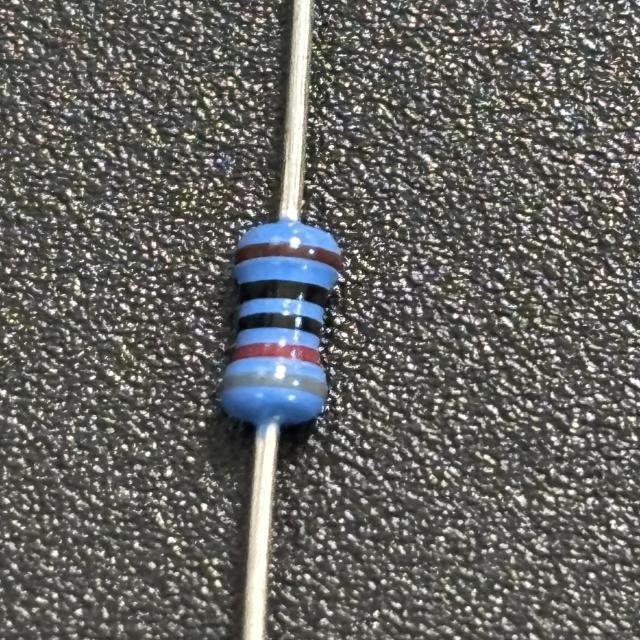resistor: (219, 226, 347, 421)
